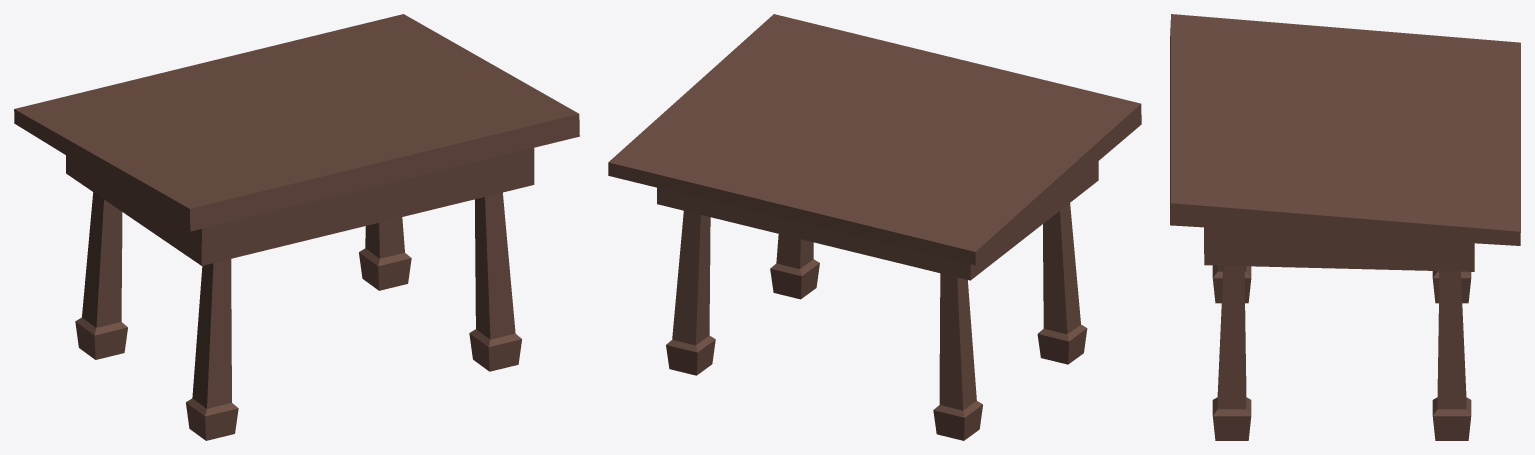
Rendered from Props.fbx_Window.fbx_Desk.fbx.
3 views of the same model, side by side, from view 1: azimuth 30°, elevation 25°; view 2: azimuth 150°, elevation 25°; view 3: azimuth 270°, elevation 25° (orthographic). The views are drawn at different scales.
Visible parts, largest first — view 1: Desk; view 2: Desk; view 3: Desk.
Boxes of the visible parts, x1,y1,x2,y2 form: Desk: [14, 14, 579, 440]; Desk: [608, 14, 1141, 440]; Desk: [1170, 14, 1520, 440].
Size of the model in its own units: 1.27 by 0.8033 by 0.9953.
